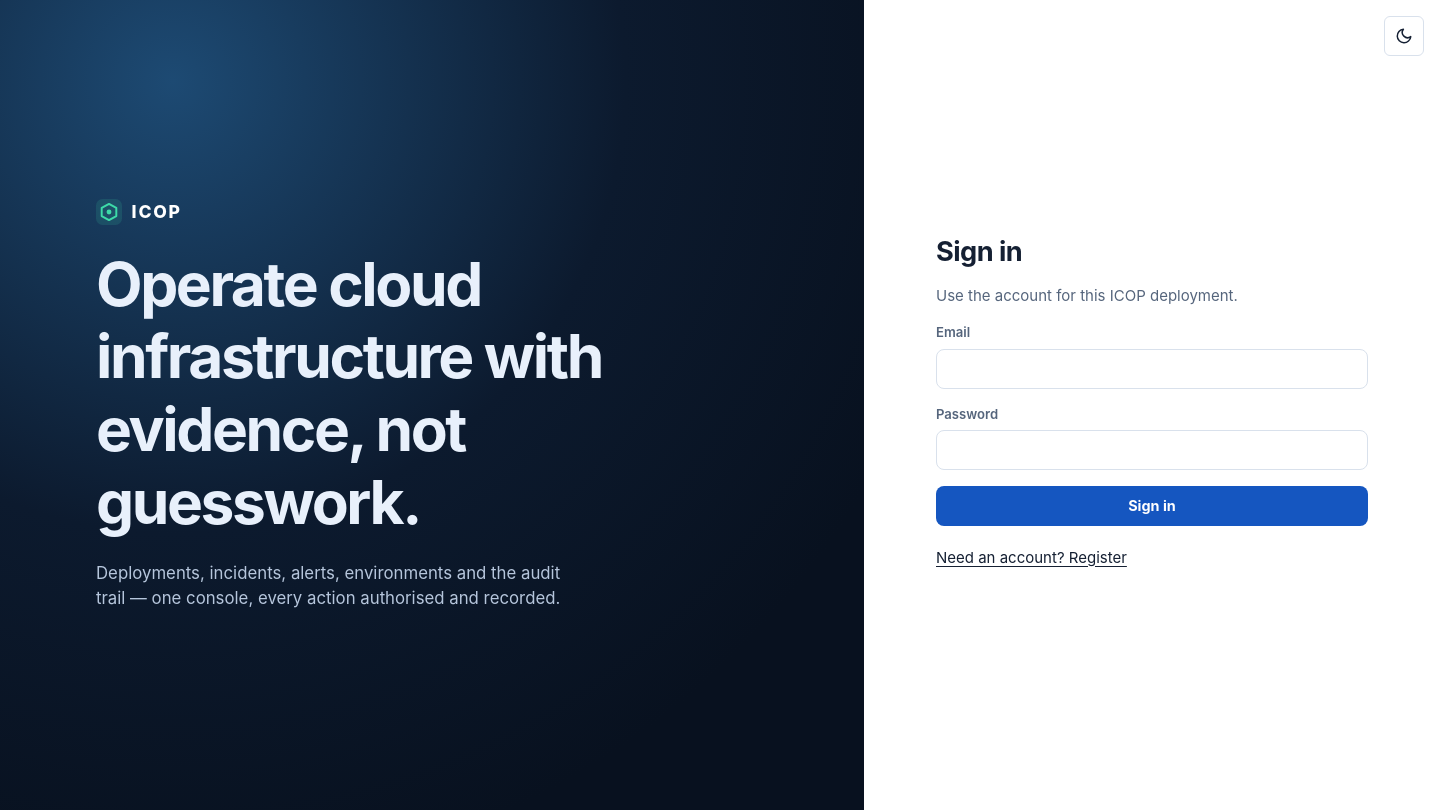
Scenario: signed out › shows the sign-in form, and signs in with the API's form-encoded login
Check: the heading "Sign in" is shown, box [936,235,1022,268]
Type "me@example.com" into the field labelled "Email" at point(1152, 368), box [936,348,1368,388]
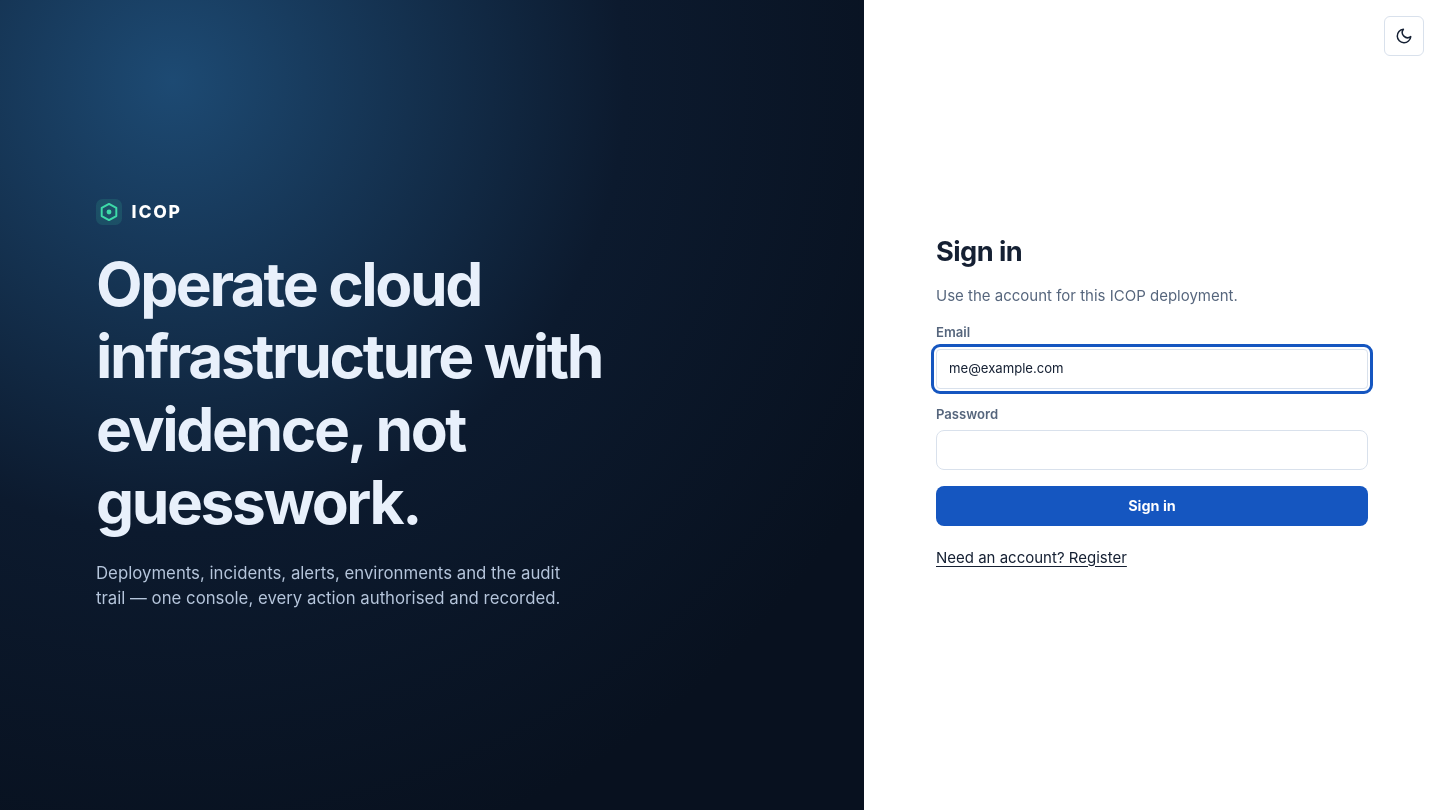
Type "supersecret1" into the password field labelled "Password" at point(1152, 450), box [936,430,1368,470]
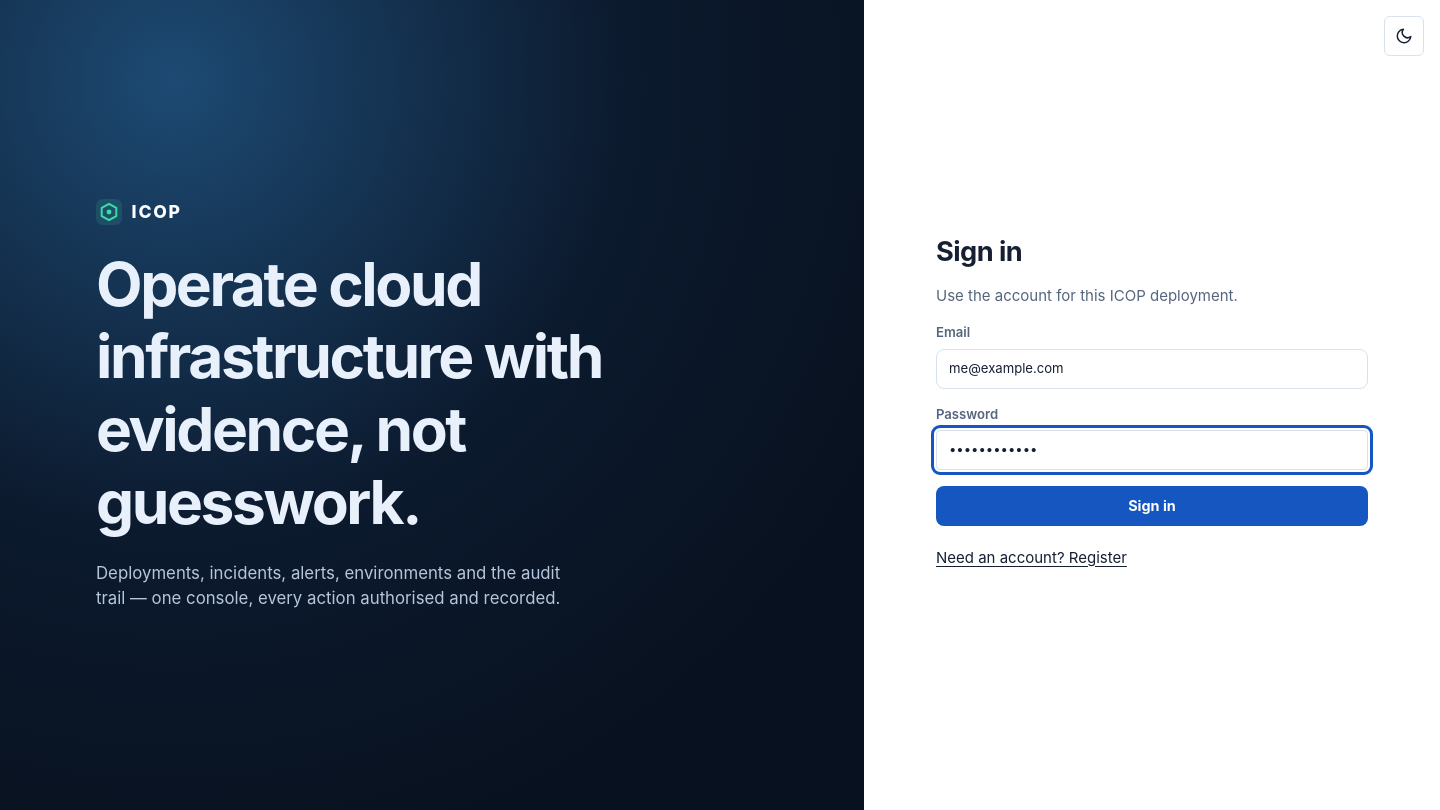
Click the button "Sign in" at point(1152, 506), box [936,486,1368,526]
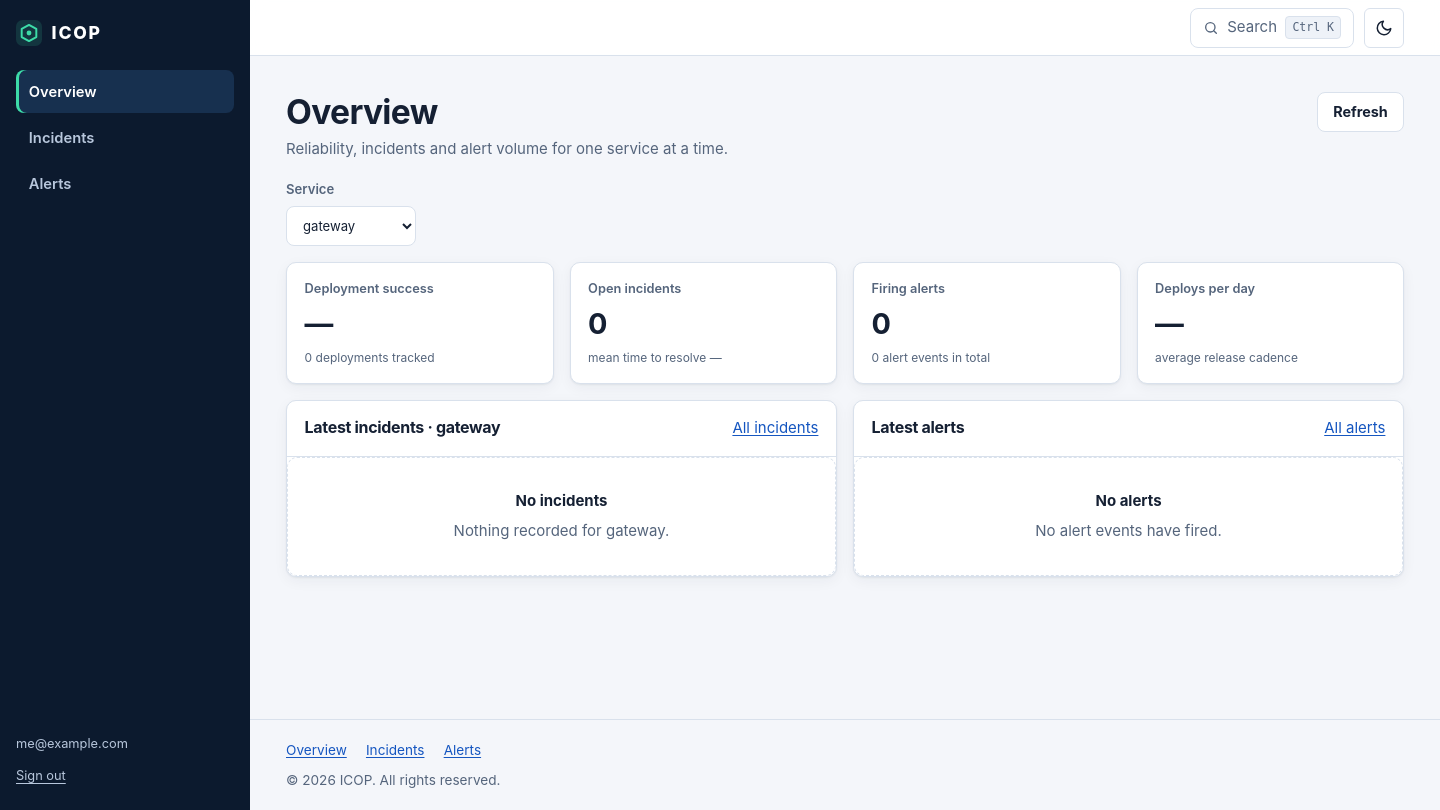
Check: the heading "Overview" is shown, box [286,91,438,132]
